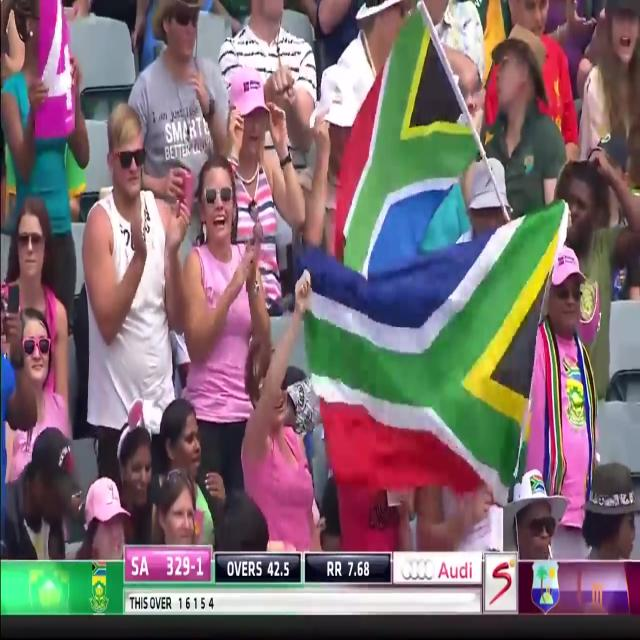Ball: (342, 4, 640, 550)
